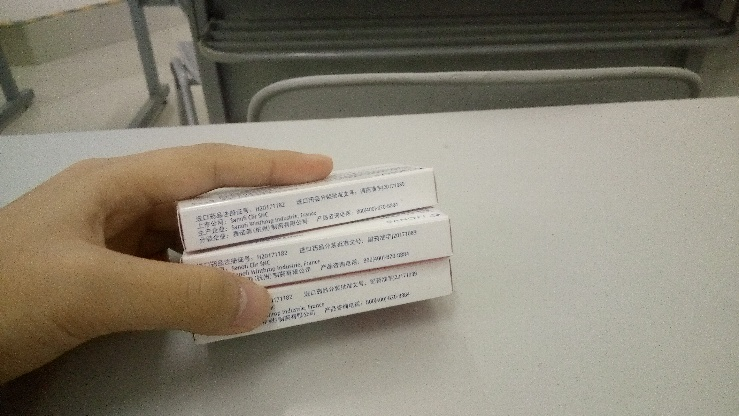pillbox: (178, 172, 445, 250), (189, 226, 457, 283), (226, 264, 454, 325)
